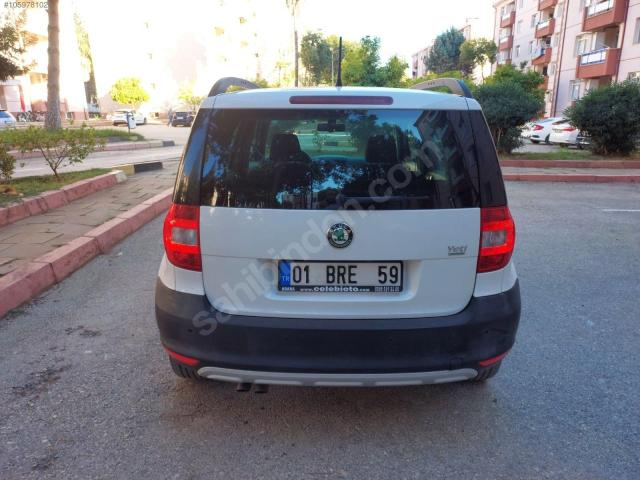plaka: (278, 260, 402, 292)
